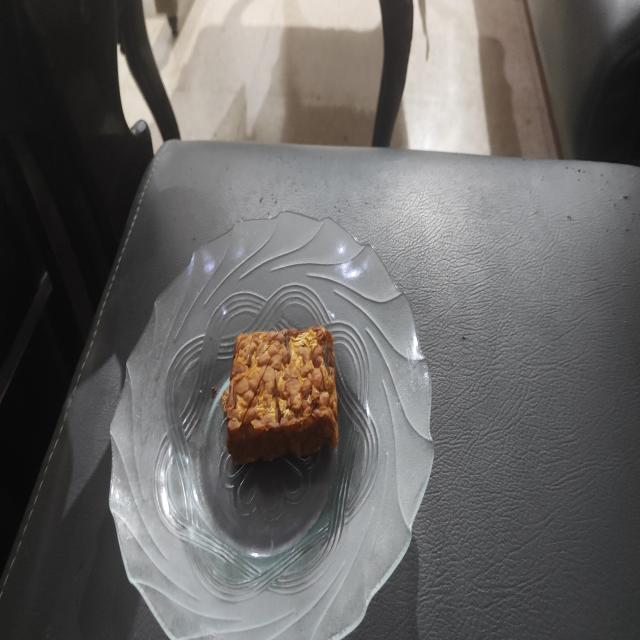tempe_goreng: (221, 325, 338, 464)
